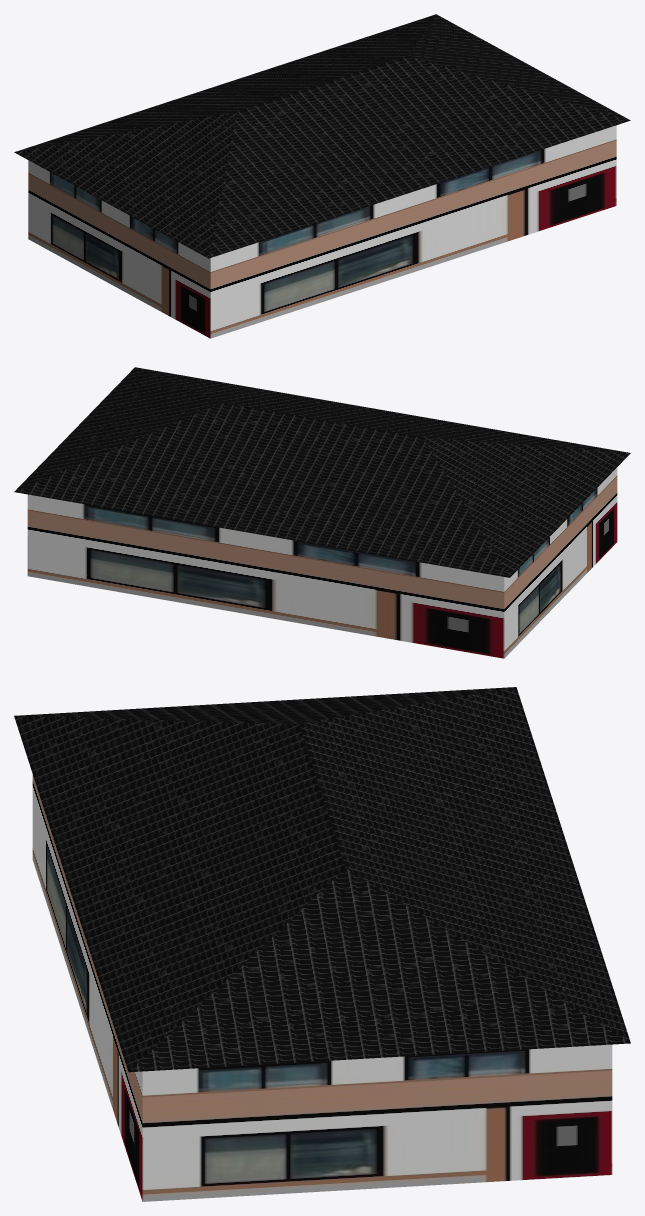
3 renders of one model, top to bottom at view 1: azimuth 30°, elevation 25°; view 2: azimuth 150°, elevation 25°; view 3: azimuth 270°, elevation 25°, orthographic. The views are drawn at different scales.
Visible parts, largest first — view 1: CityEngineMaterial_14_m, CityEngineMaterial_5_m; view 2: CityEngineMaterial_14_m, CityEngineMaterial_5_m; view 3: CityEngineMaterial_14_m, CityEngineMaterial_5_m.
Boxes of the visible parts, left/top/right/bottom form: CityEngineMaterial_14_m: left=14, top=14, right=630, bottom=258; CityEngineMaterial_5_m: left=28, top=125, right=616, bottom=338; CityEngineMaterial_14_m: left=14, top=367, right=630, bottom=577; CityEngineMaterial_5_m: left=27, top=467, right=617, bottom=658; CityEngineMaterial_14_m: left=14, top=687, right=630, bottom=1072; CityEngineMaterial_5_m: left=32, top=774, right=612, bottom=1201.
Size of the model in its own units: 52.07 by 13.94 by 35.24.
